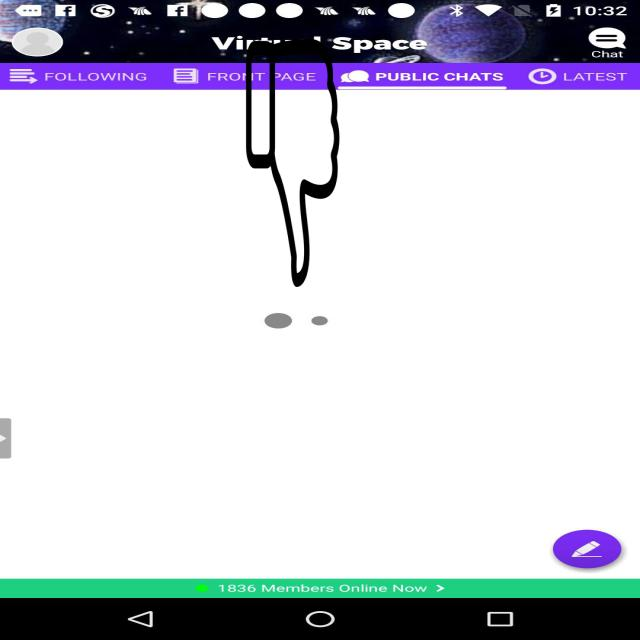obstruction: (244, 39, 340, 287)
